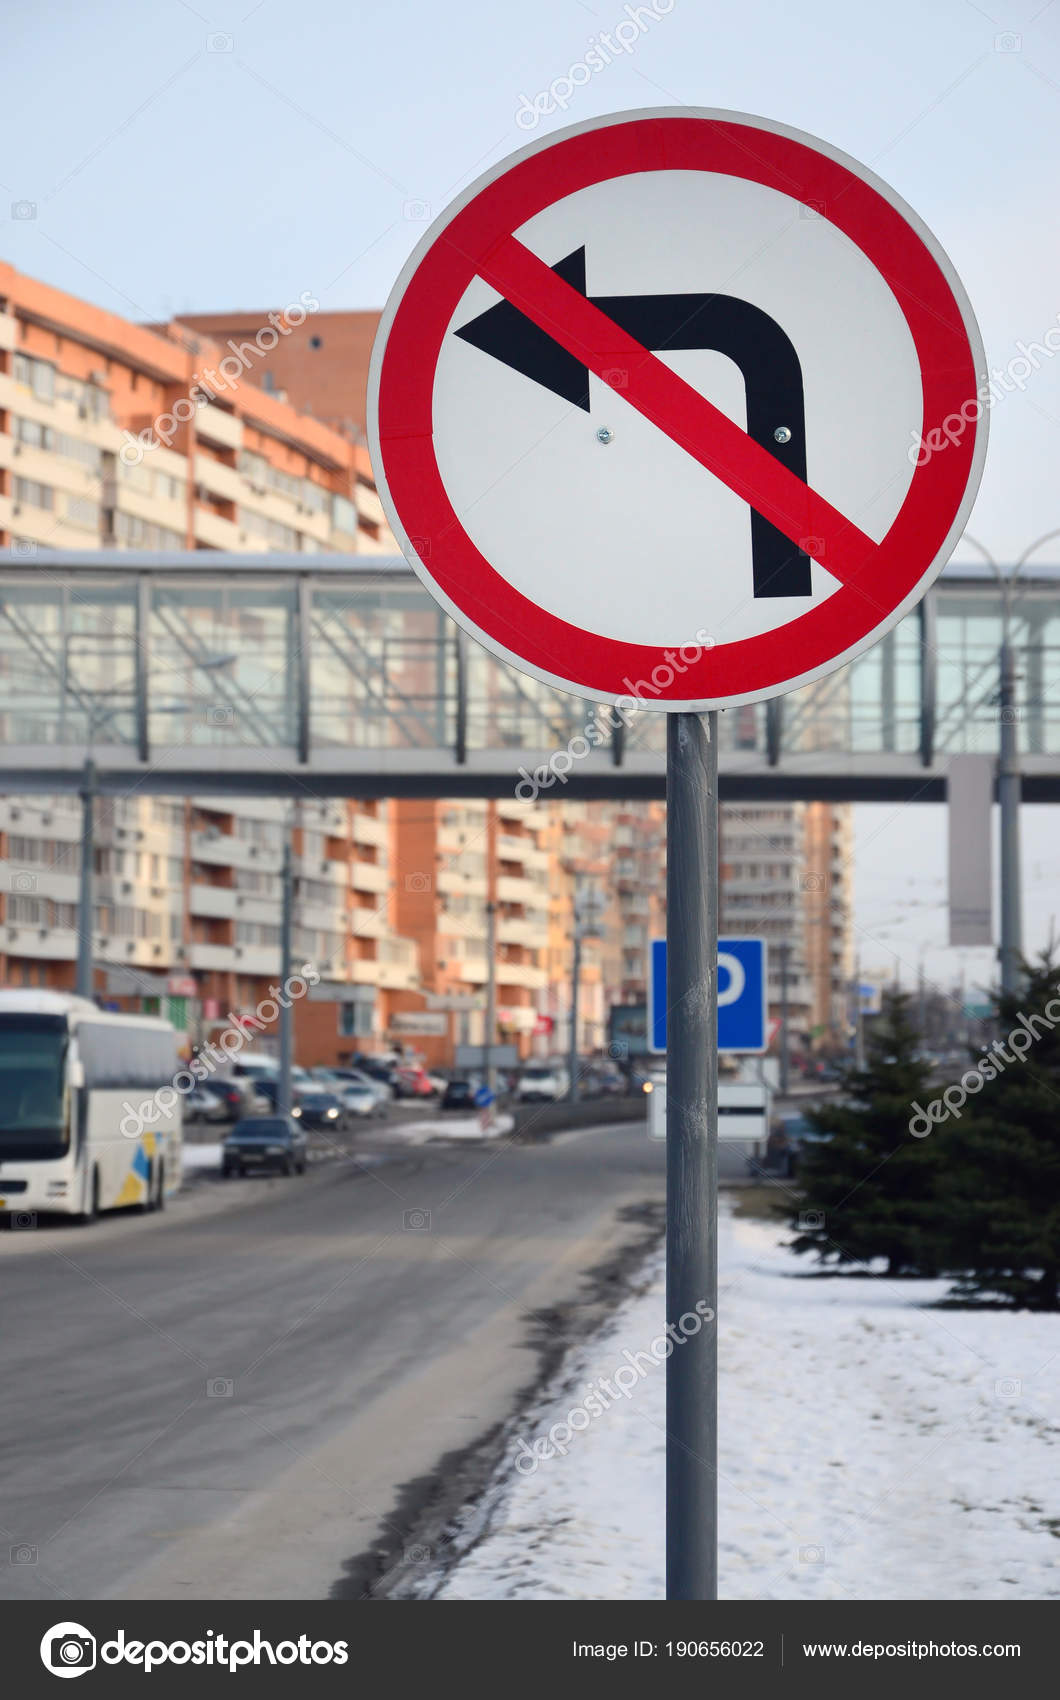otobus: (0, 971, 201, 1233)
sola_girilmez: (363, 105, 992, 732)
